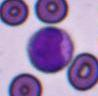M: (27, 27, 74, 74)
